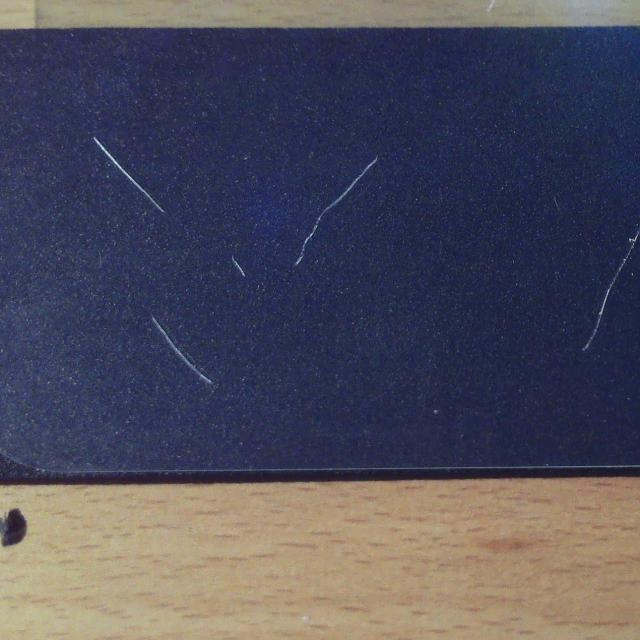defect: (294, 156, 377, 263), (586, 230, 640, 350), (95, 138, 163, 212), (153, 317, 215, 386), (230, 257, 247, 278)
